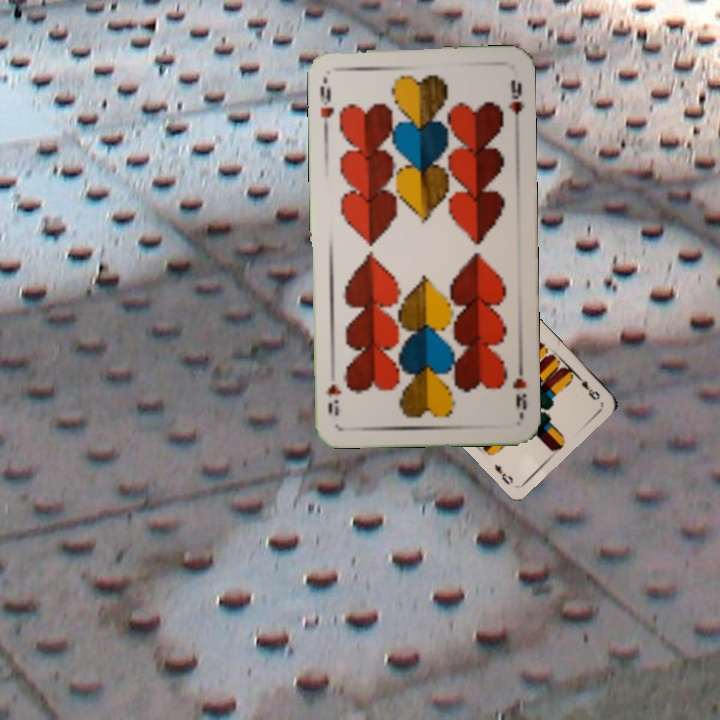E9: (572, 371, 603, 403)
H9: (509, 360, 529, 412), (316, 82, 336, 132)
